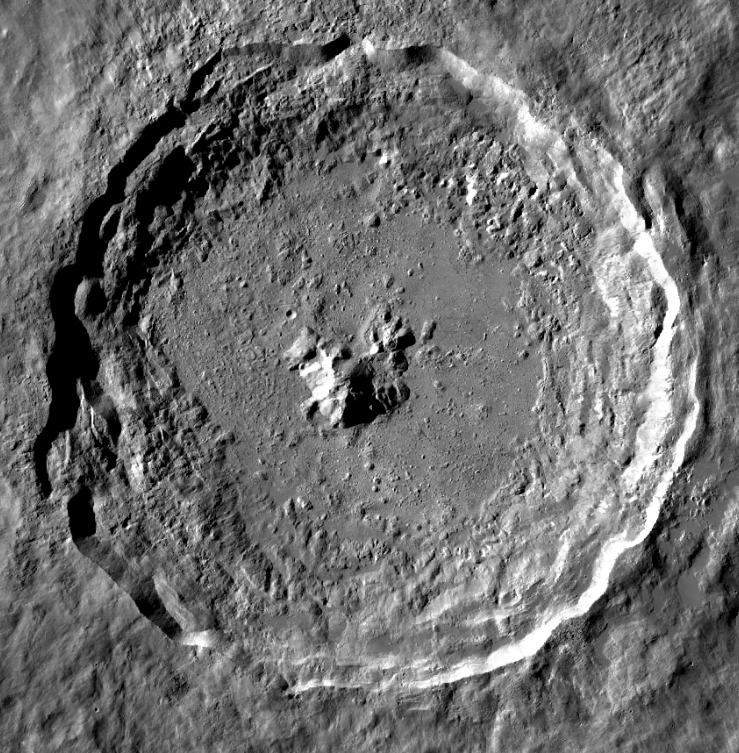crater: (15, 12, 727, 726)
